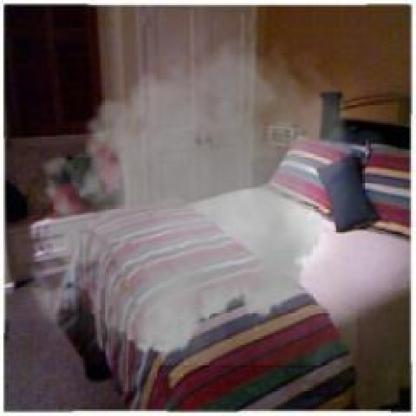Smoke: (18, 24, 356, 364)
